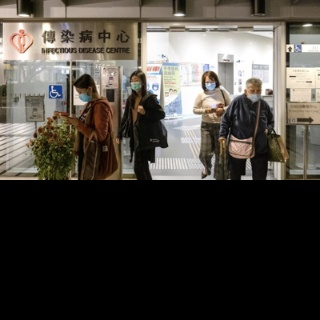with_mask: (248, 86, 261, 104), (129, 76, 143, 92), (76, 88, 88, 102), (204, 78, 216, 91)
